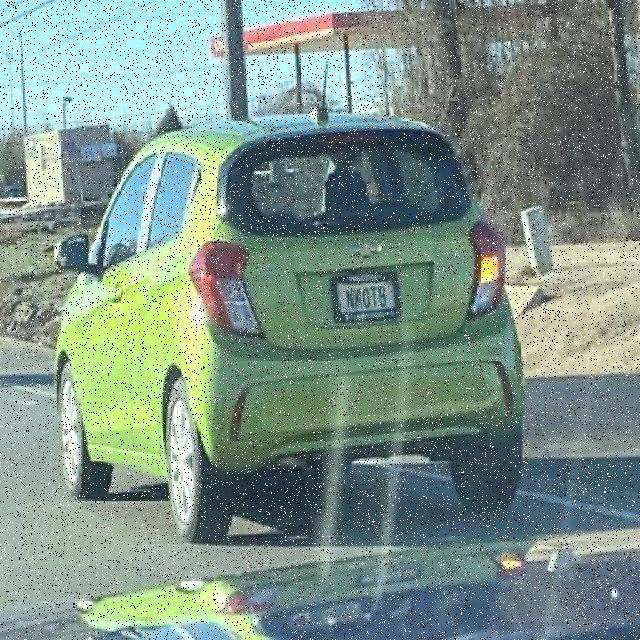LicensePlate: (328, 270, 401, 322)
